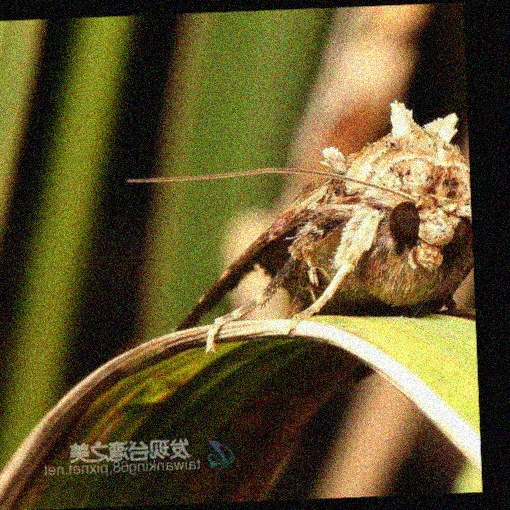Spodoptera litura: (127, 103, 471, 351)
